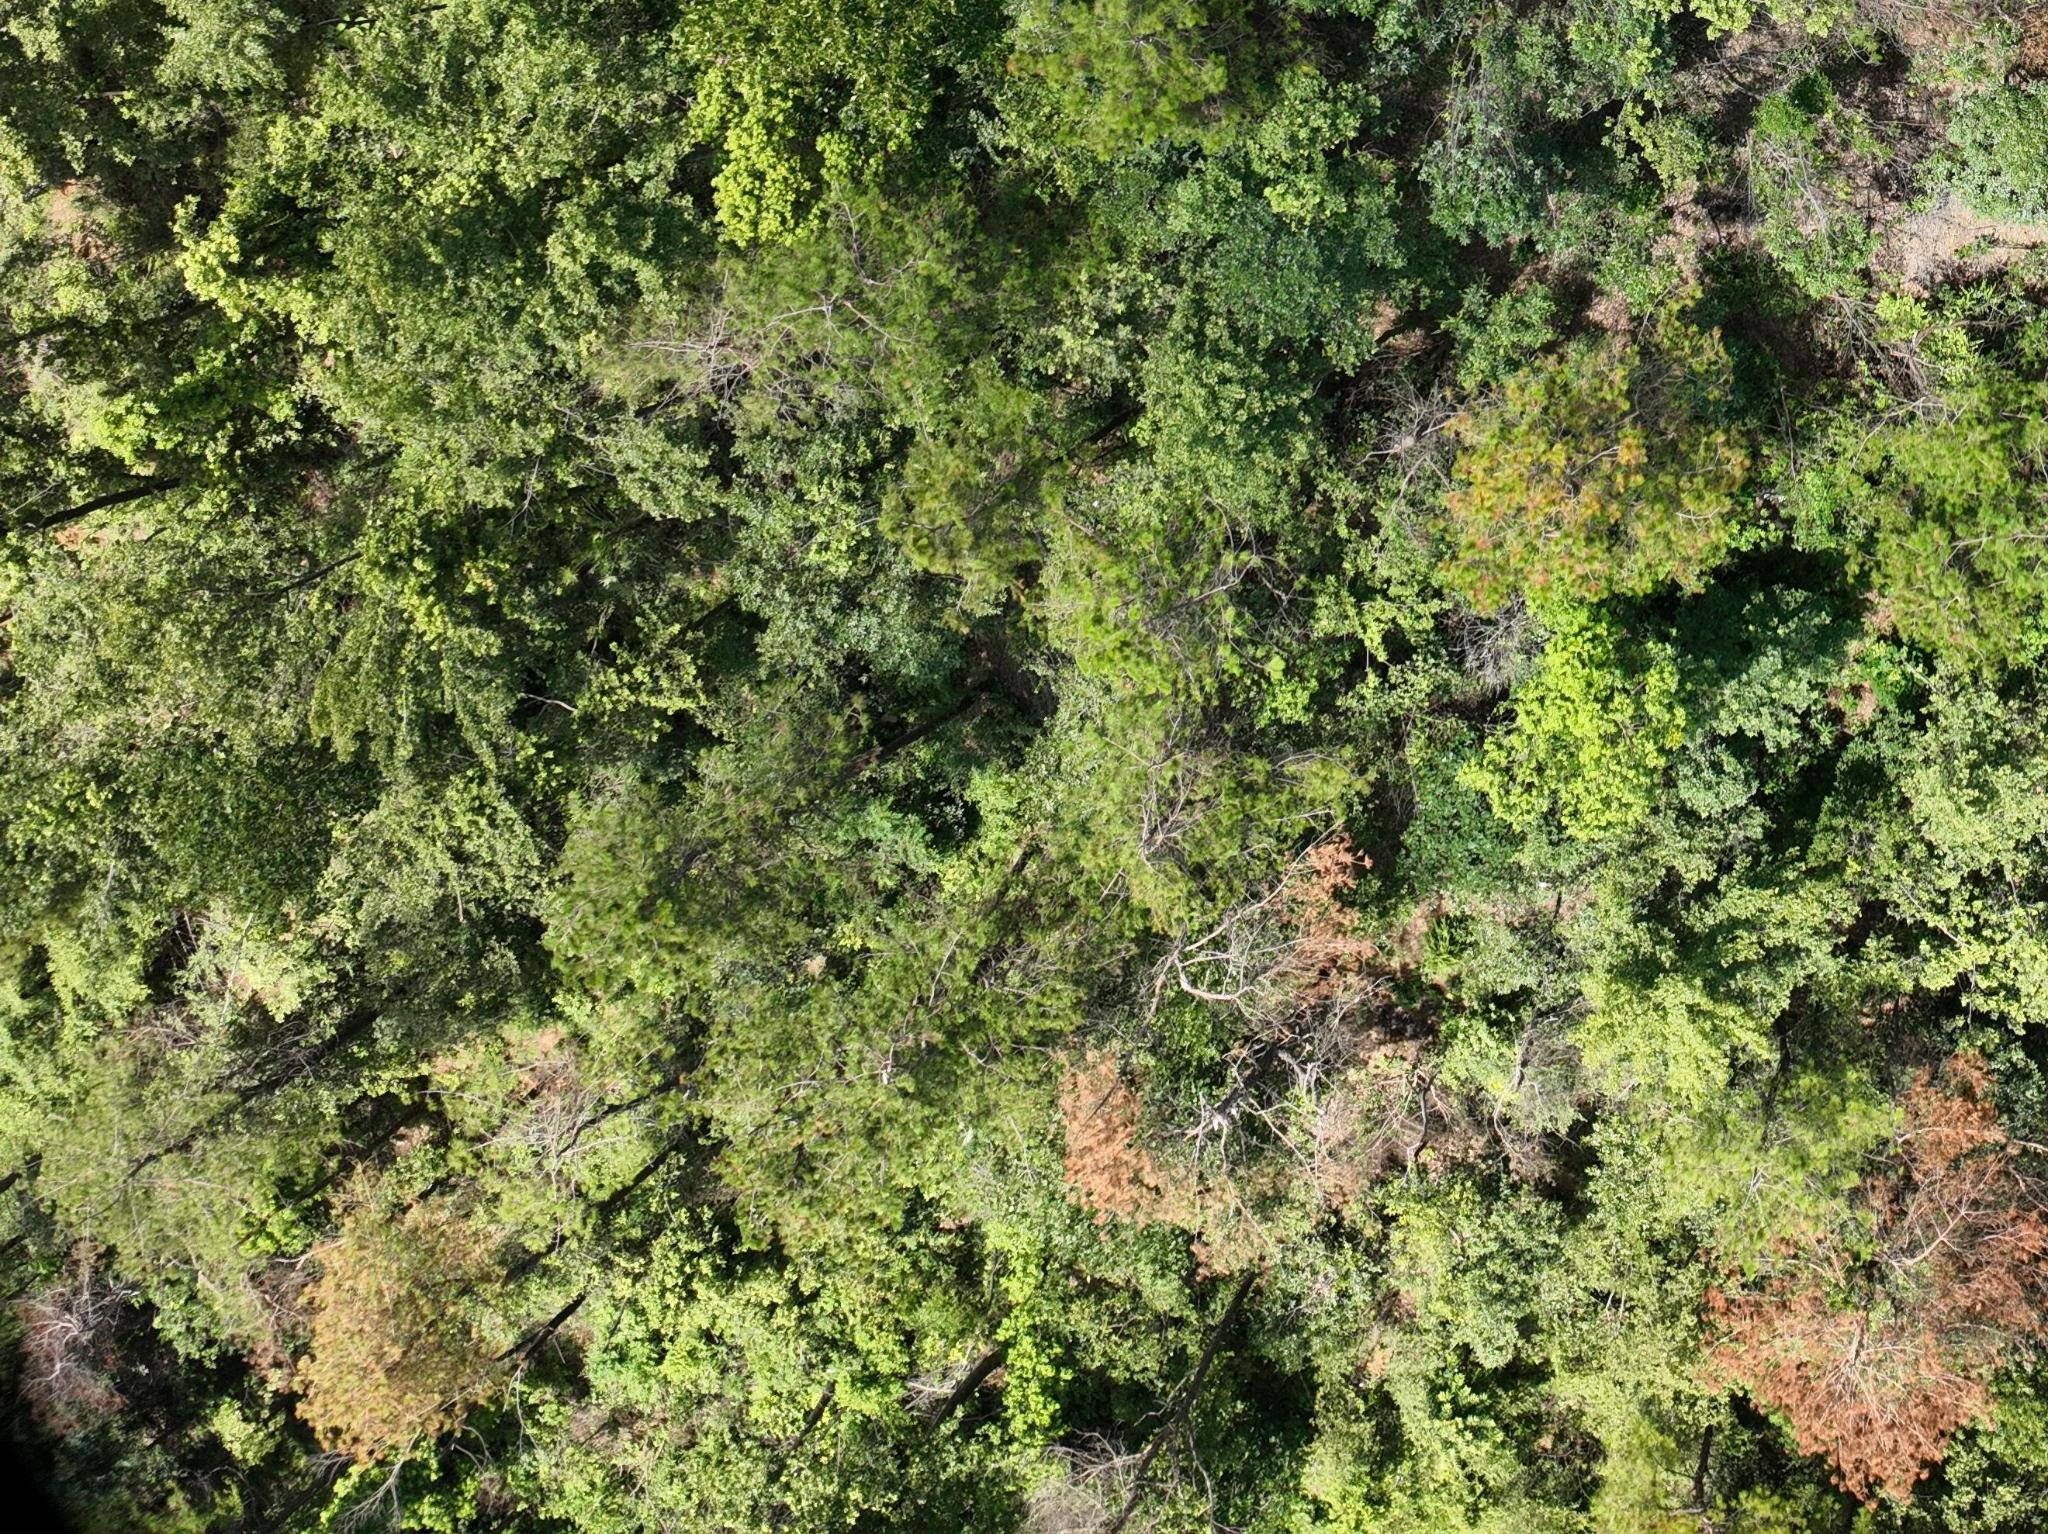heavy: (1703, 1231, 2037, 1500), (1041, 1039, 1236, 1246), (1244, 830, 1415, 1017), (1879, 1049, 2027, 1218), (11, 1267, 127, 1437)
light: (1429, 343, 1723, 617), (282, 1180, 498, 1473)
